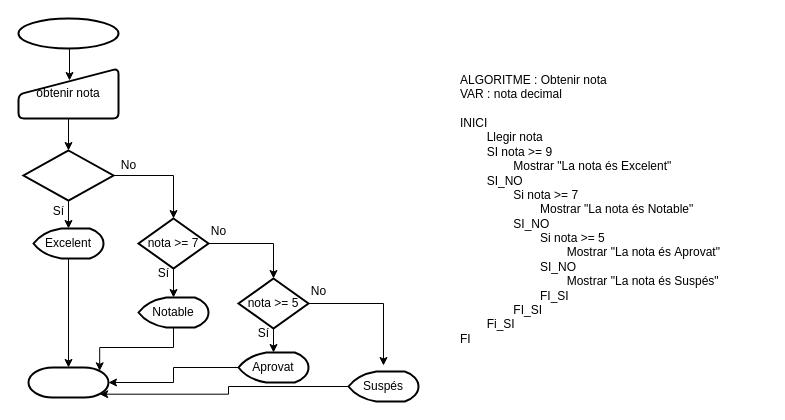
The diagram is 785 pixels wide and 420 high, and some of its shapes have lost their labels. Each missing label, with the centre of its shape:
"Final" belongs at point (68, 382).
"Inici" belongs at point (68, 33).
"nota >= 9" belongs at point (68, 175).
